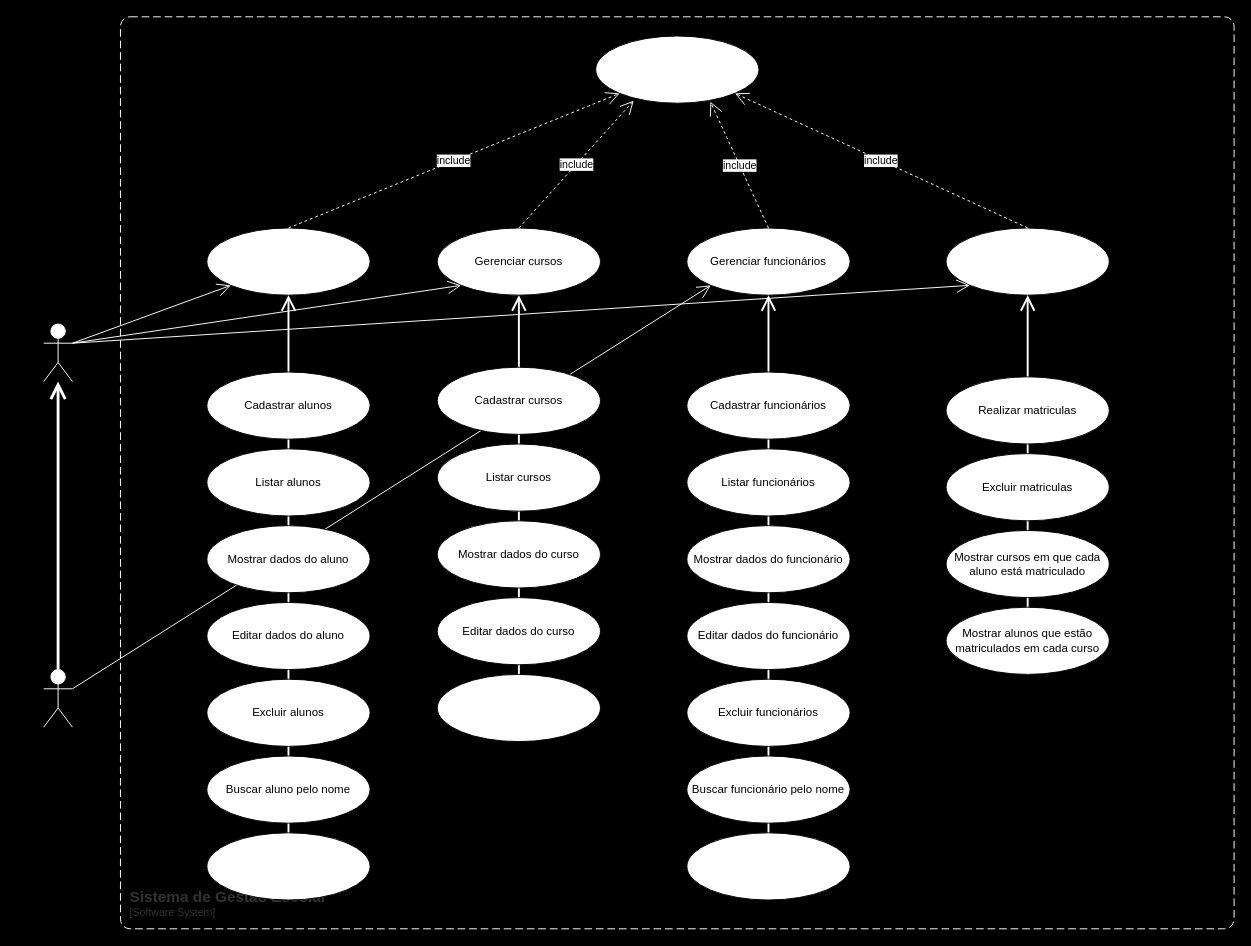
Image size: 1251x946. Some labels were removed from this diagram. Here are the shapes that lost their labels. From the top down, the centre of each, then its label:
(x=677, y=69): Login de usuários
(x=288, y=261): Gerenciar alunos
(x=1027, y=261): Gerenciar matriculas
(x=57, y=352): Colaboradores
(x=57, y=698): Administradores
(x=518, y=707): Excluir cursos
(x=288, y=866): Buscar aluno pelo CPF
(x=768, y=866): Buscar funcionário pelo CPF
